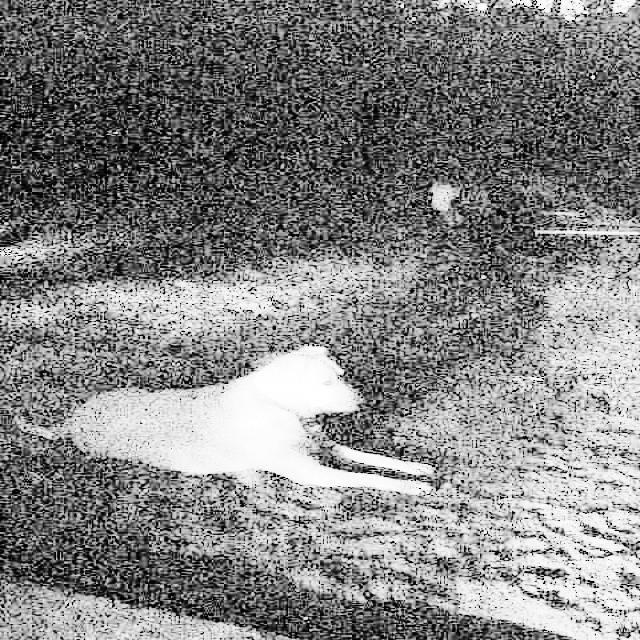Dog: (125, 325, 411, 522)
